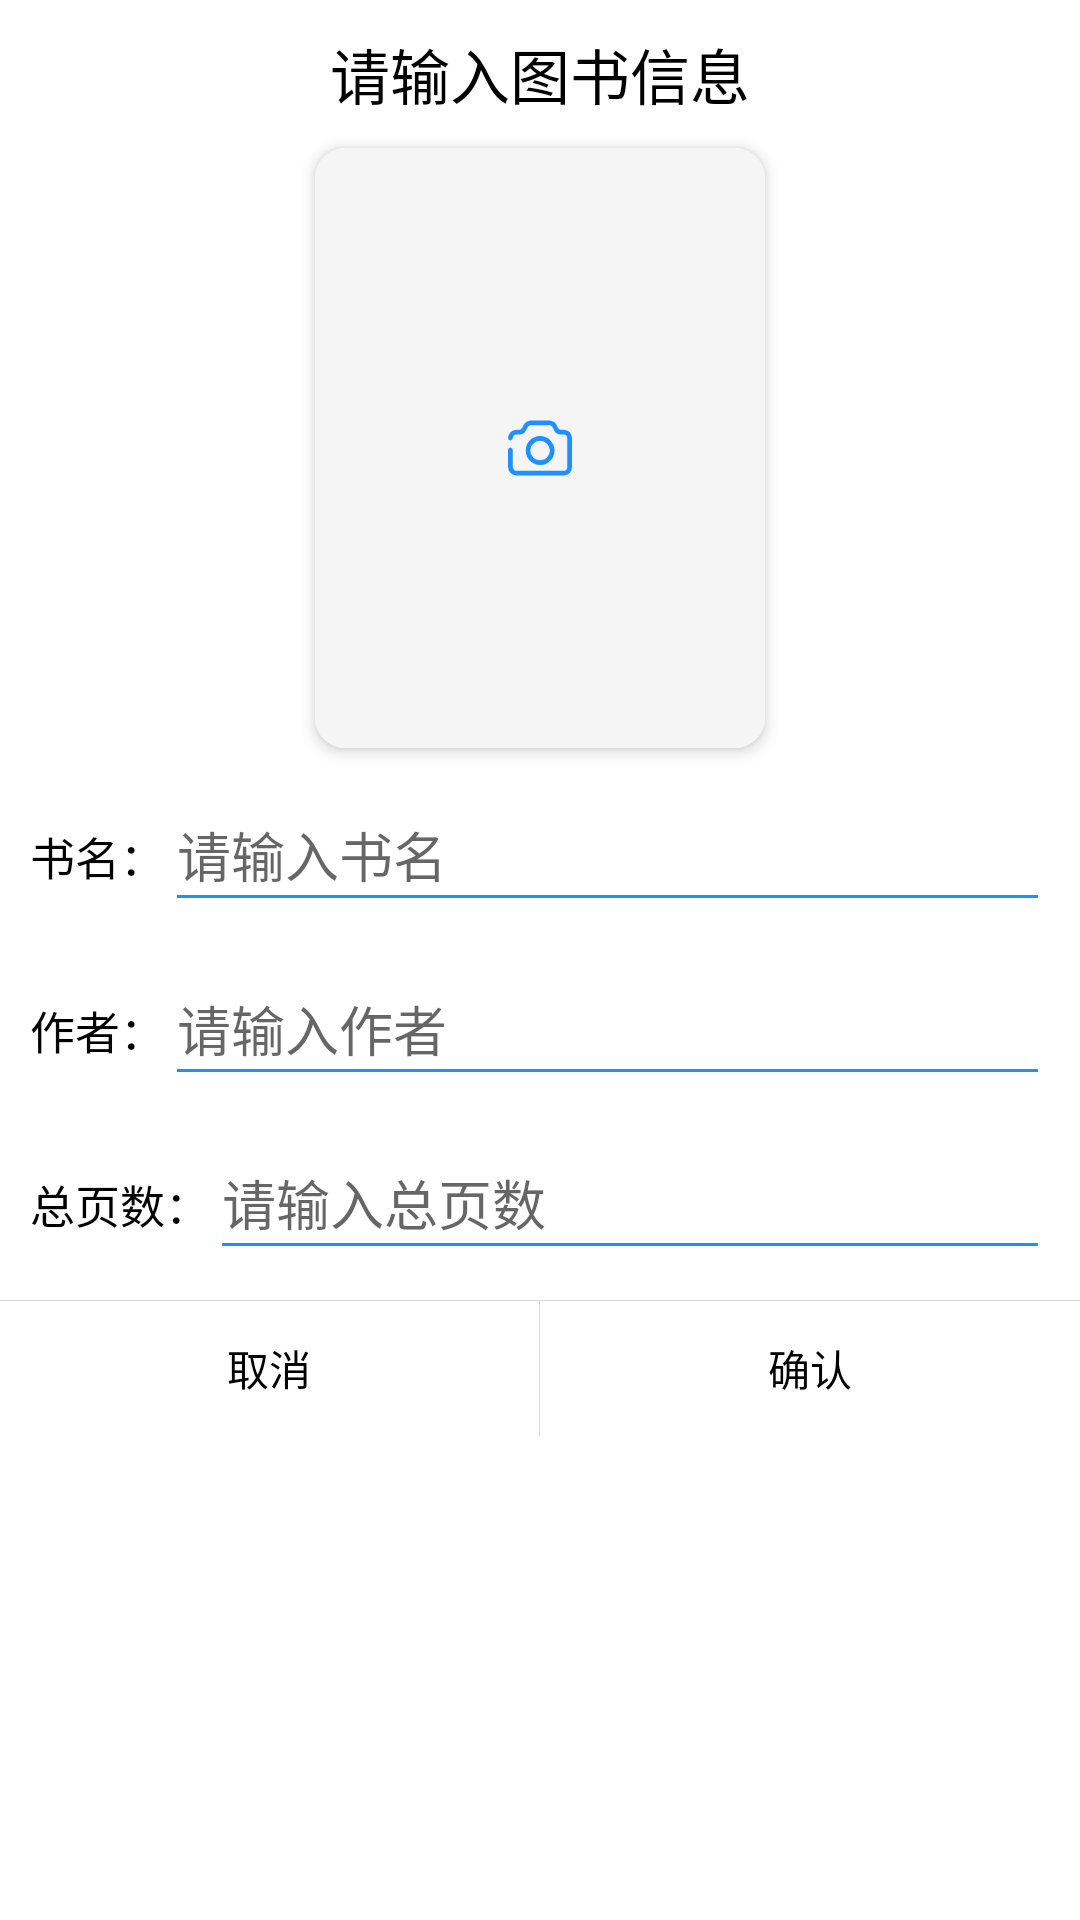

Named icons in this screenshot (1080w x 1920h) and their bounding boxes, (x1, y1, x2, y2):
photo: (508, 420, 572, 476)
